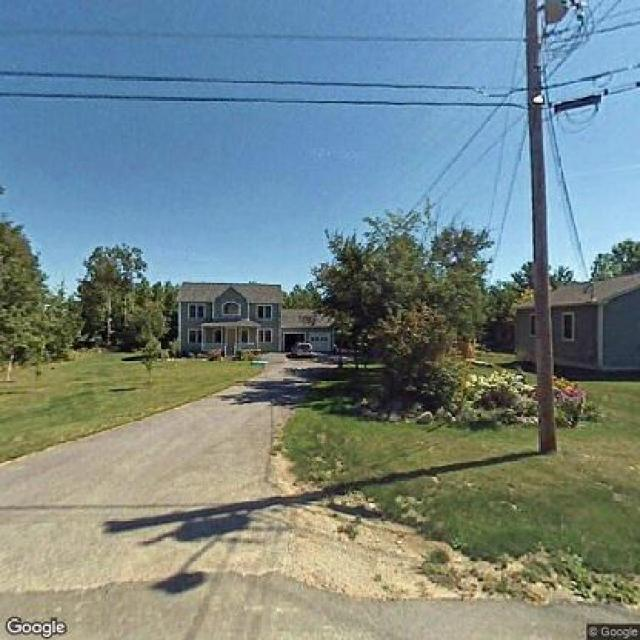pole: (497, 0, 603, 454)
